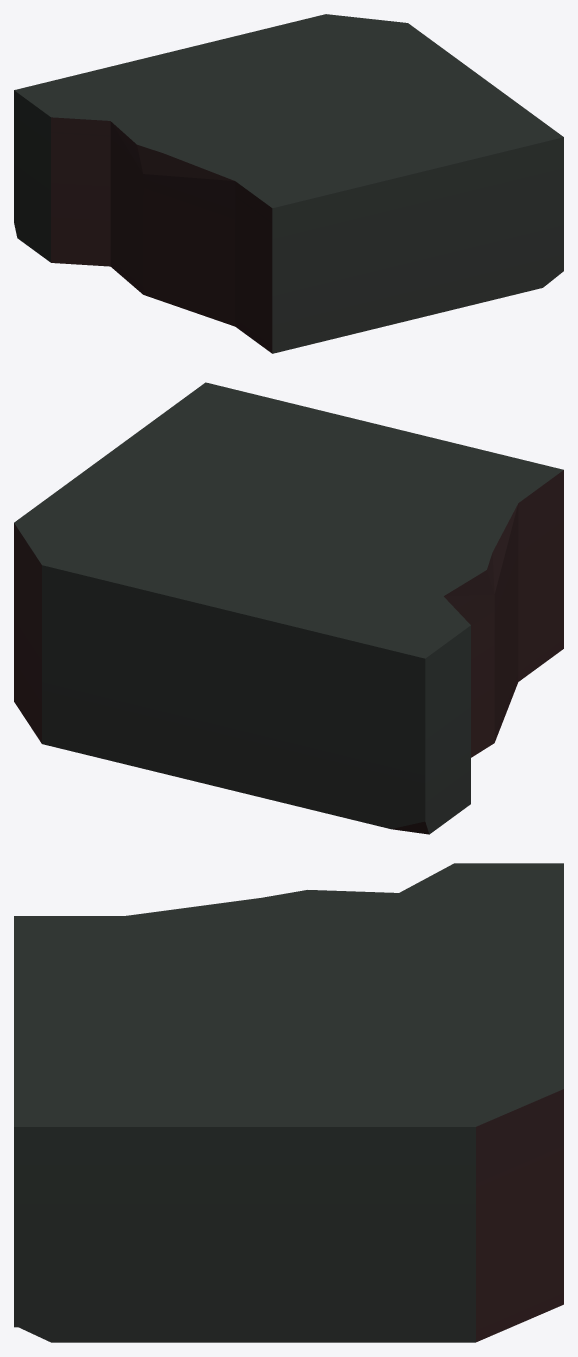
The model's file is SM_BrickRubble_04_Broke.fbx.
3 views of the same model, one above another, from view 1: azimuth 30°, elevation 25°; view 2: azimuth 150°, elevation 25°; view 3: azimuth 270°, elevation 25° (orthographic). The views are drawn at different scales.
Visible parts, largest first — view 1: SM_BrickRubble_04_Broke; view 2: SM_BrickRubble_04_Broke; view 3: SM_BrickRubble_04_Broke.
Part boxes in pixels (x1,y1,x2,y2): SM_BrickRubble_04_Broke: (14, 14, 563, 353); SM_BrickRubble_04_Broke: (14, 382, 563, 834); SM_BrickRubble_04_Broke: (14, 863, 563, 1342).
Bounding box in the file's own units: 207 × 79.02 × 183.
1 material, 1 textured.
